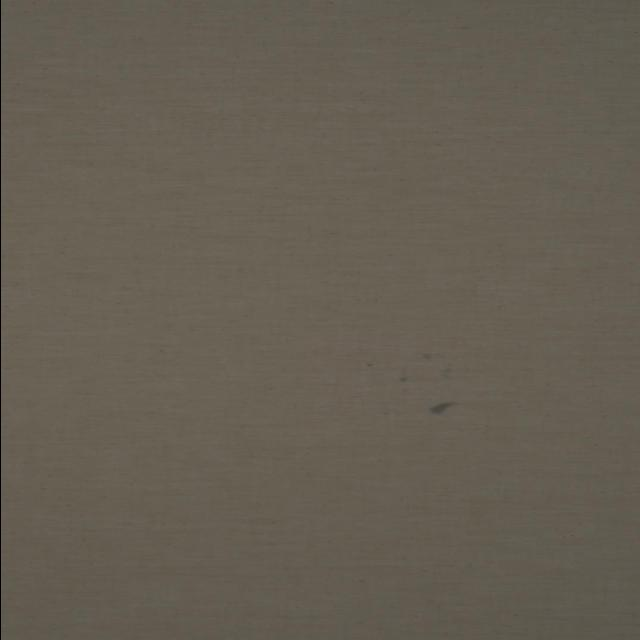dirty: (428, 402, 460, 414)
